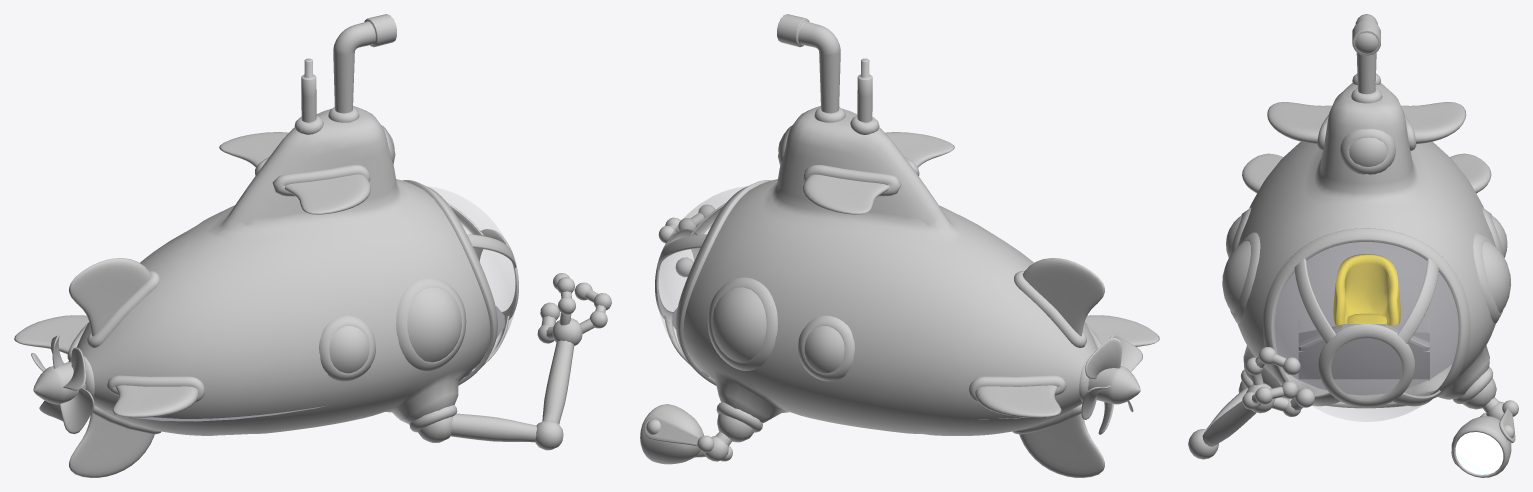
Rendered from 潜水艇mesh.fbx.
3 renders of one model, left to right at view 1: azimuth 30°, elevation 25°; view 2: azimuth 150°, elevation 25°; view 3: azimuth 270°, elevation 25°, orthographic.
Parts seen in each view (by area): view 1: geo1_principledshader_0; view 2: geo1_principledshader_0; view 3: geo1_principledshader_0.
Part boxes in pixels (x1,y1,x2,y2): geo1_principledshader_0: [14, 14, 611, 477]; geo1_principledshader_0: [640, 14, 1159, 477]; geo1_principledshader_0: [1188, 14, 1518, 477].
Size of the model in its own units: 298 by 228 by 163.
